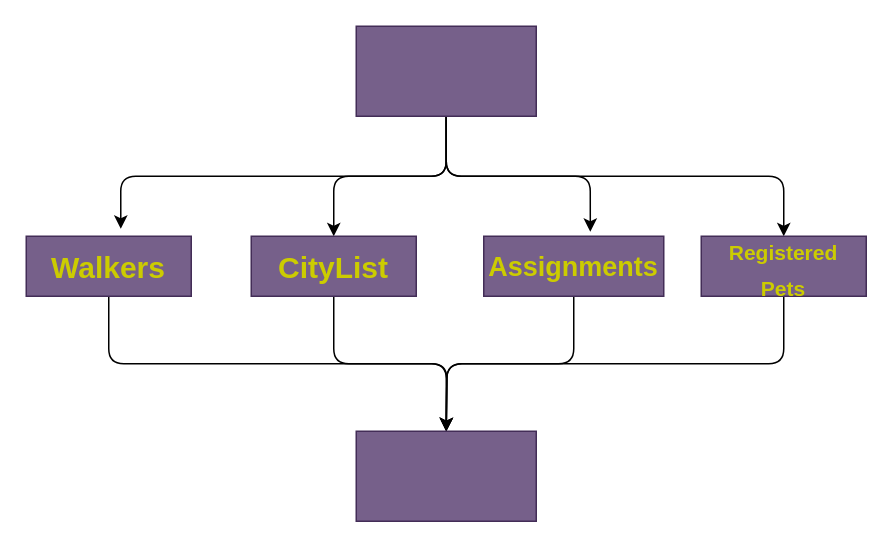
This 893x548 diagram has some shape labels left out. Each missing label, with the box of its shape:
Database: (355, 430, 536, 521)
Main: (355, 25, 536, 116)
